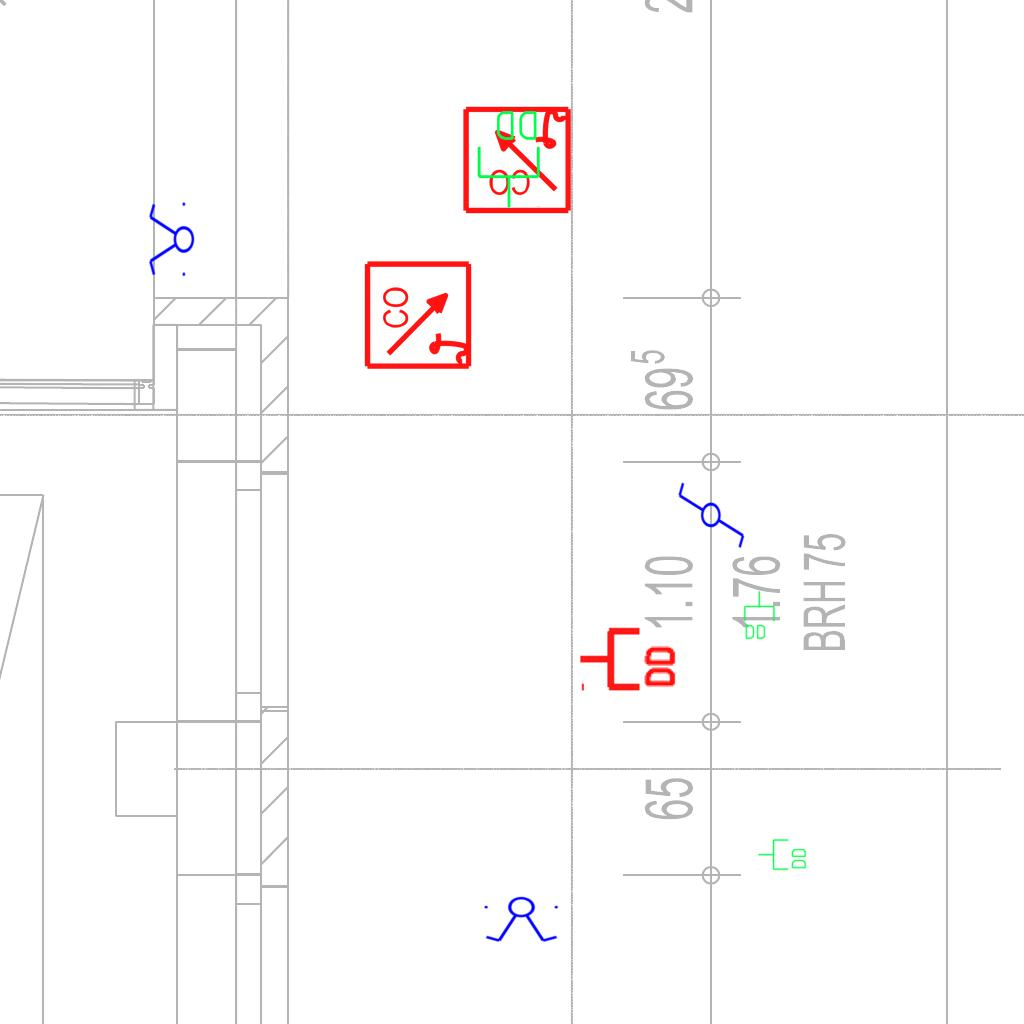Datenanschluss_zweifach: (577, 623, 680, 692), (475, 107, 544, 210), (742, 590, 776, 641), (757, 838, 808, 872)
ROA_Rauchmelder_optisch_mit_Signalgeber_(Sockelsirene): (460, 102, 573, 215), (363, 258, 476, 371)
Serienschalter: (147, 198, 195, 282), (480, 896, 564, 944)
Wechselschalter: (676, 472, 748, 550)
